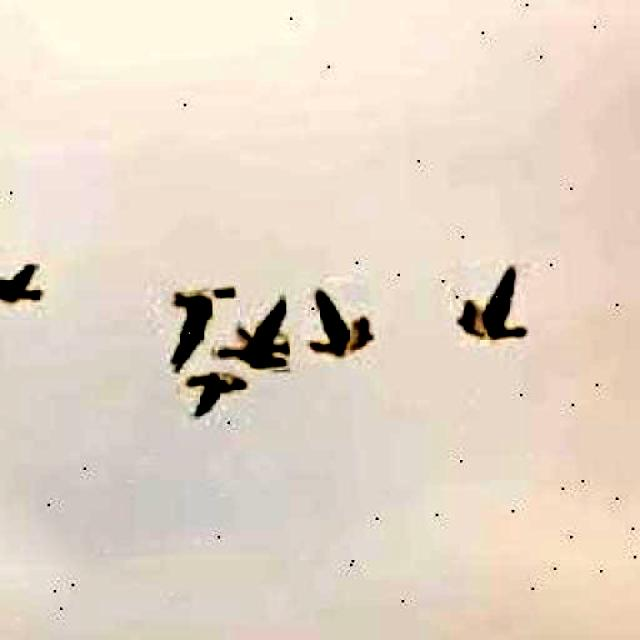airplane: (161, 286, 239, 374), (210, 292, 290, 375), (452, 264, 529, 348), (299, 282, 375, 361), (178, 370, 249, 424), (0, 261, 46, 309)
